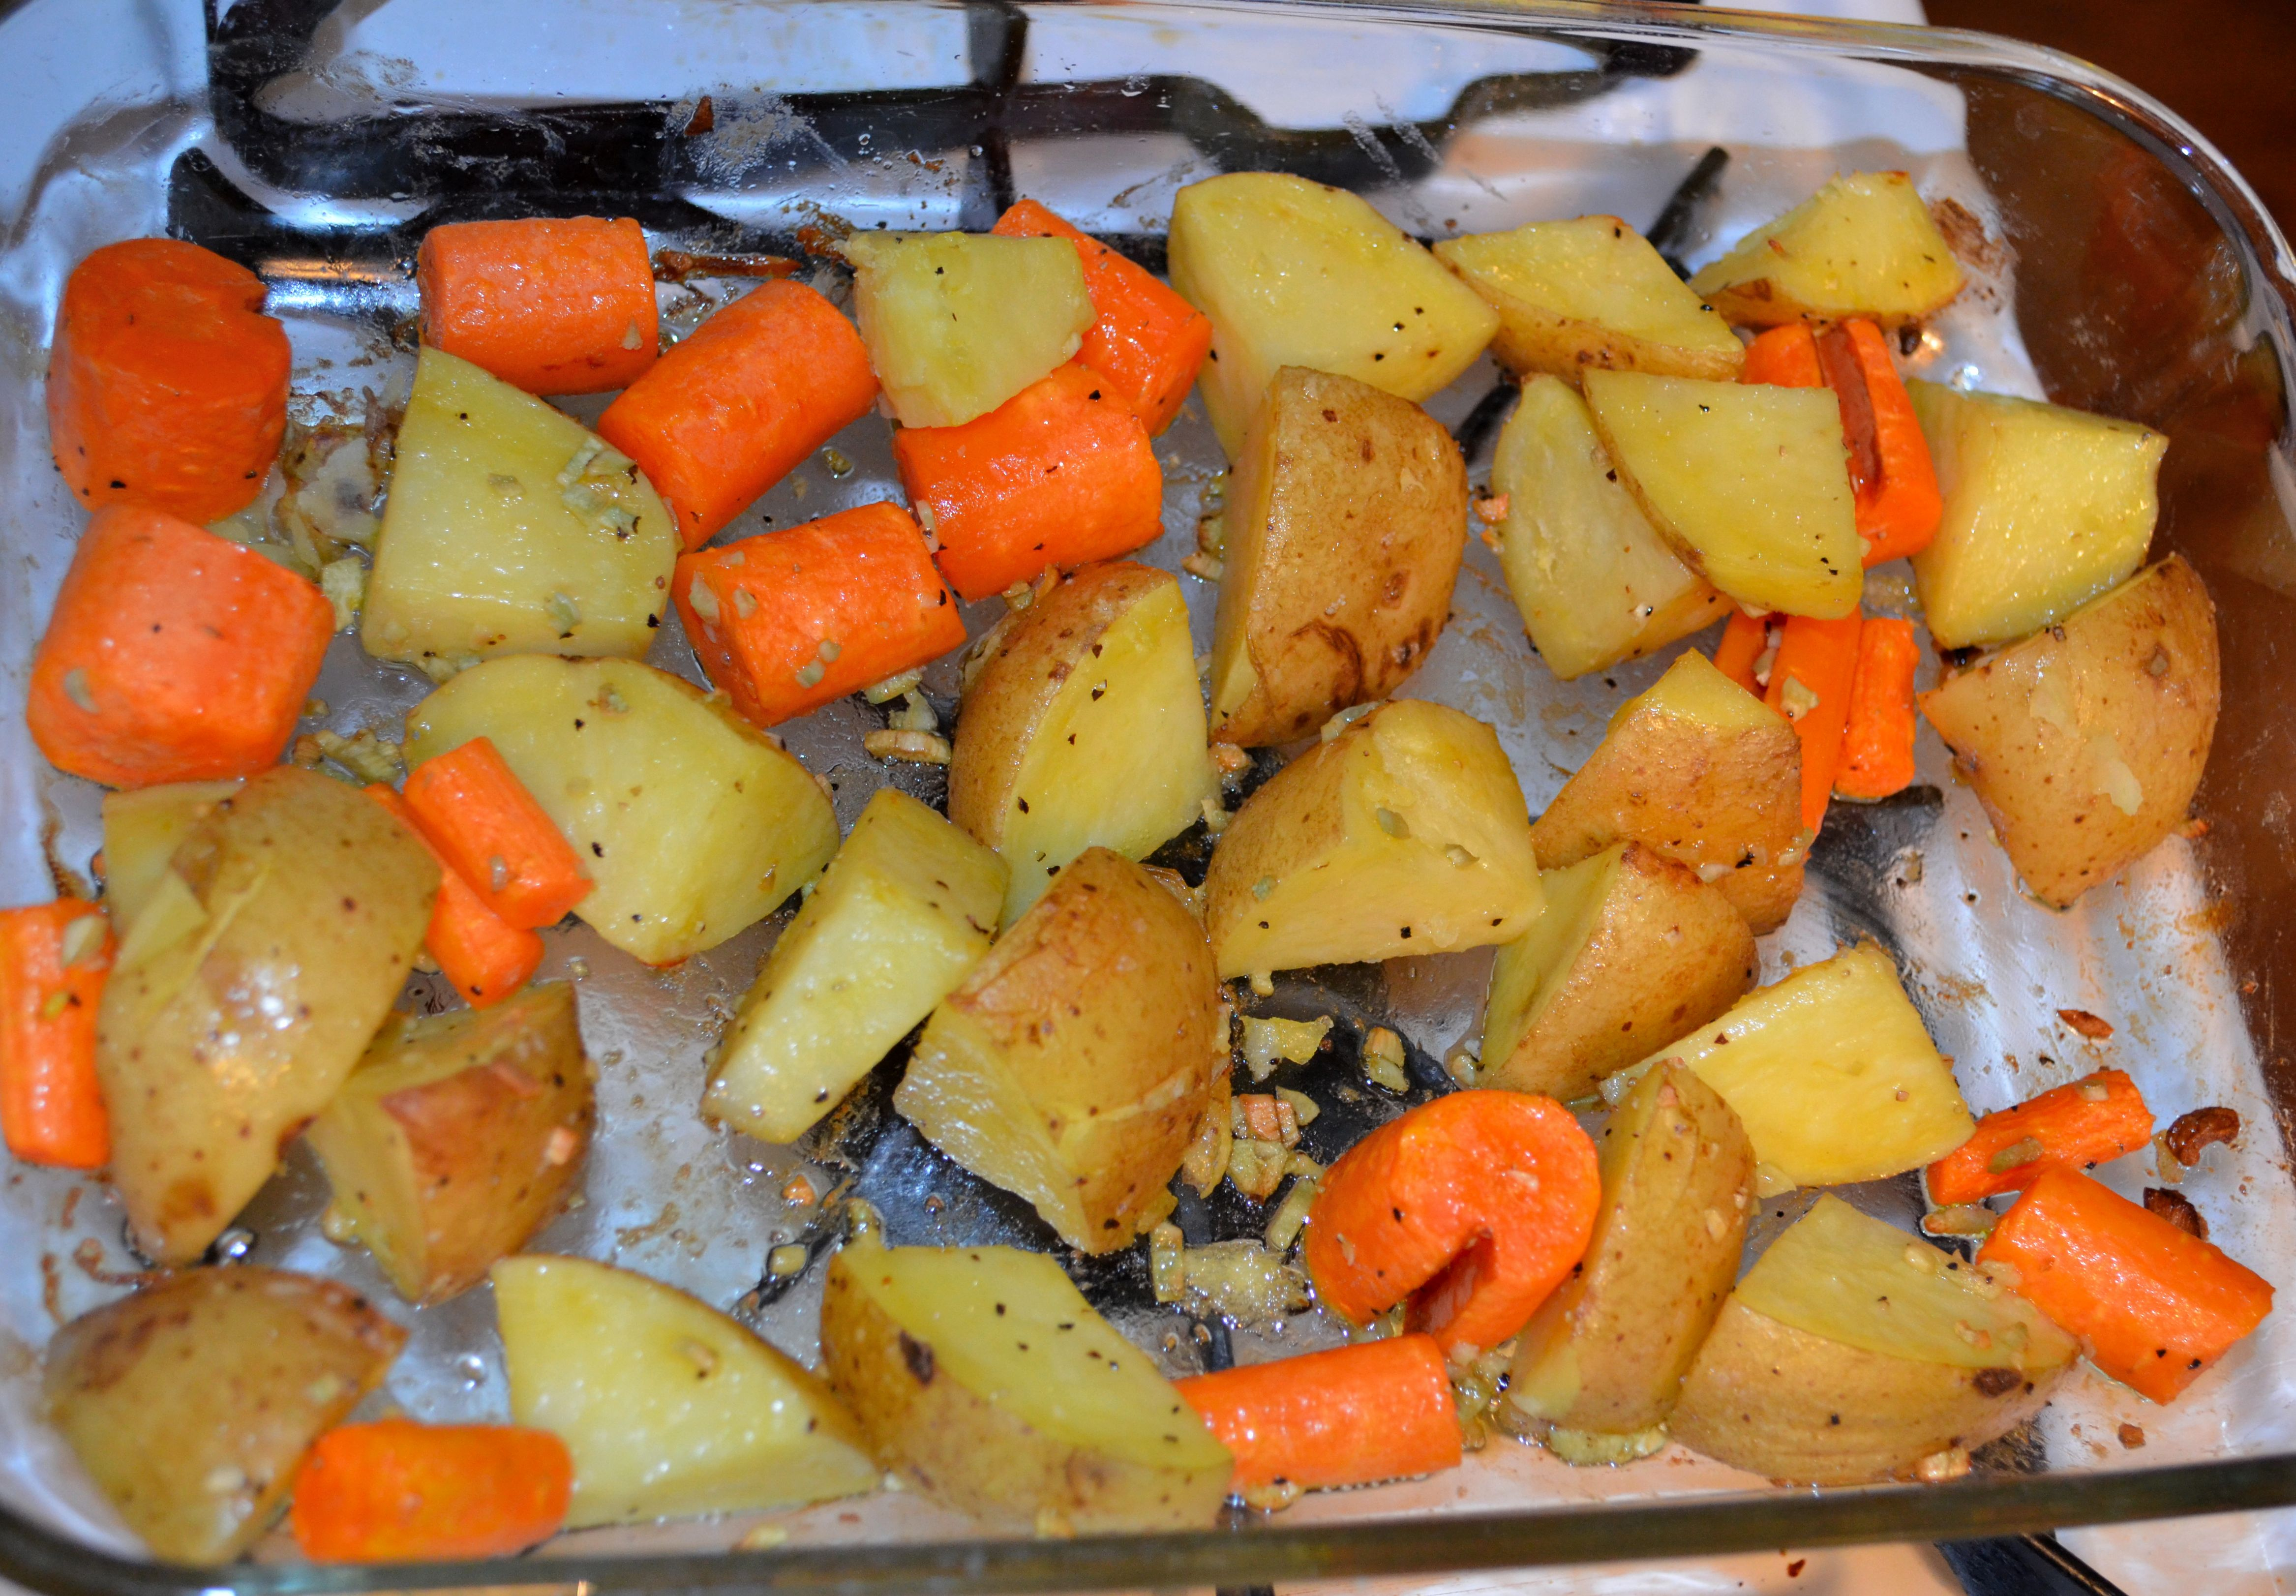boiled potatoes: (59, 748, 773, 1505), (1548, 755, 2064, 1432), (963, 534, 1542, 1094), (1314, 208, 1855, 626), (366, 398, 797, 909)
